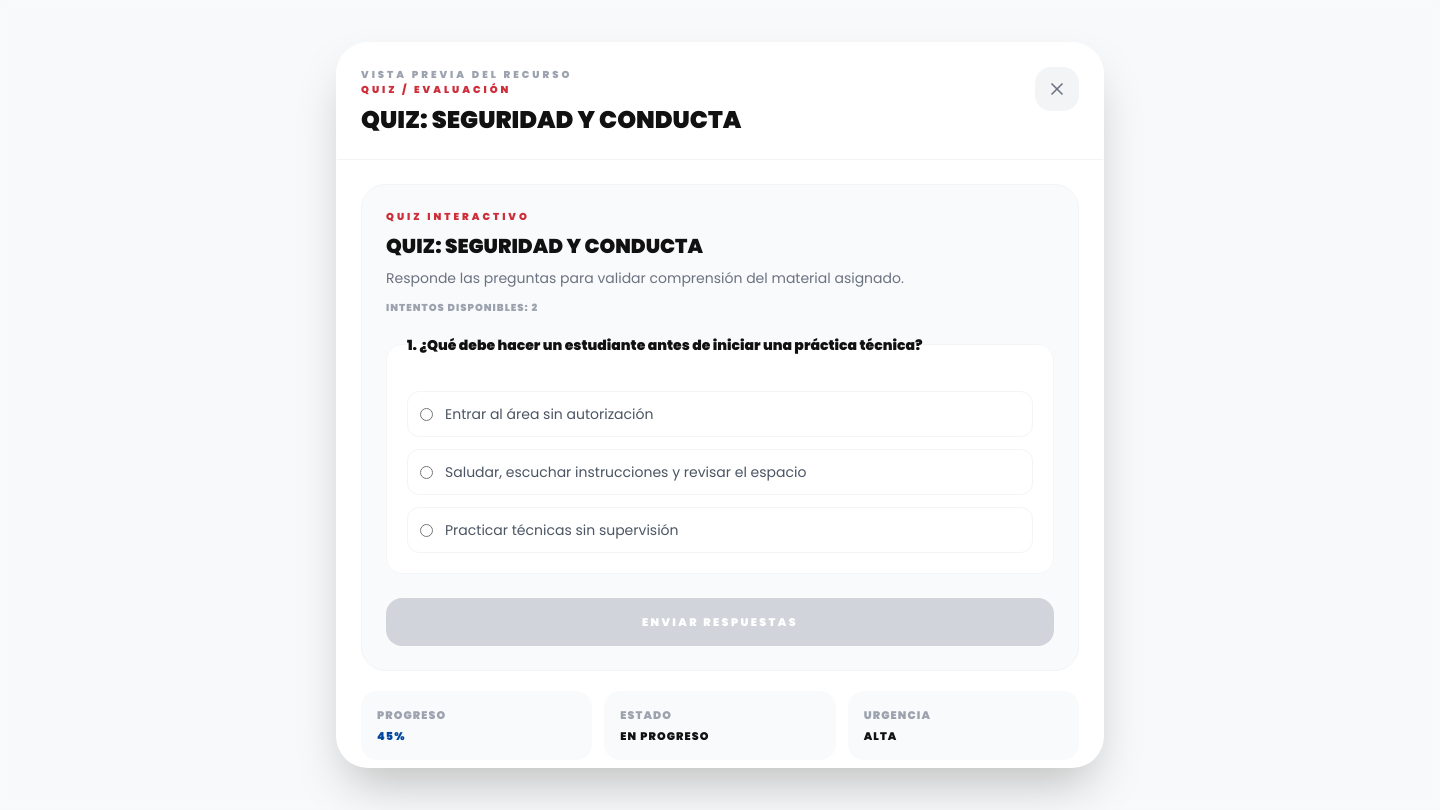
Test: MaterialPreviewModal › actualiza estado local del modal cuando el quiz se aprueba
The image size is (1440, 810).
Click the radio button labelled "Saludar, escuchar instrucciones y revisar el espacio" at (426, 472), box [420,466,433,479]
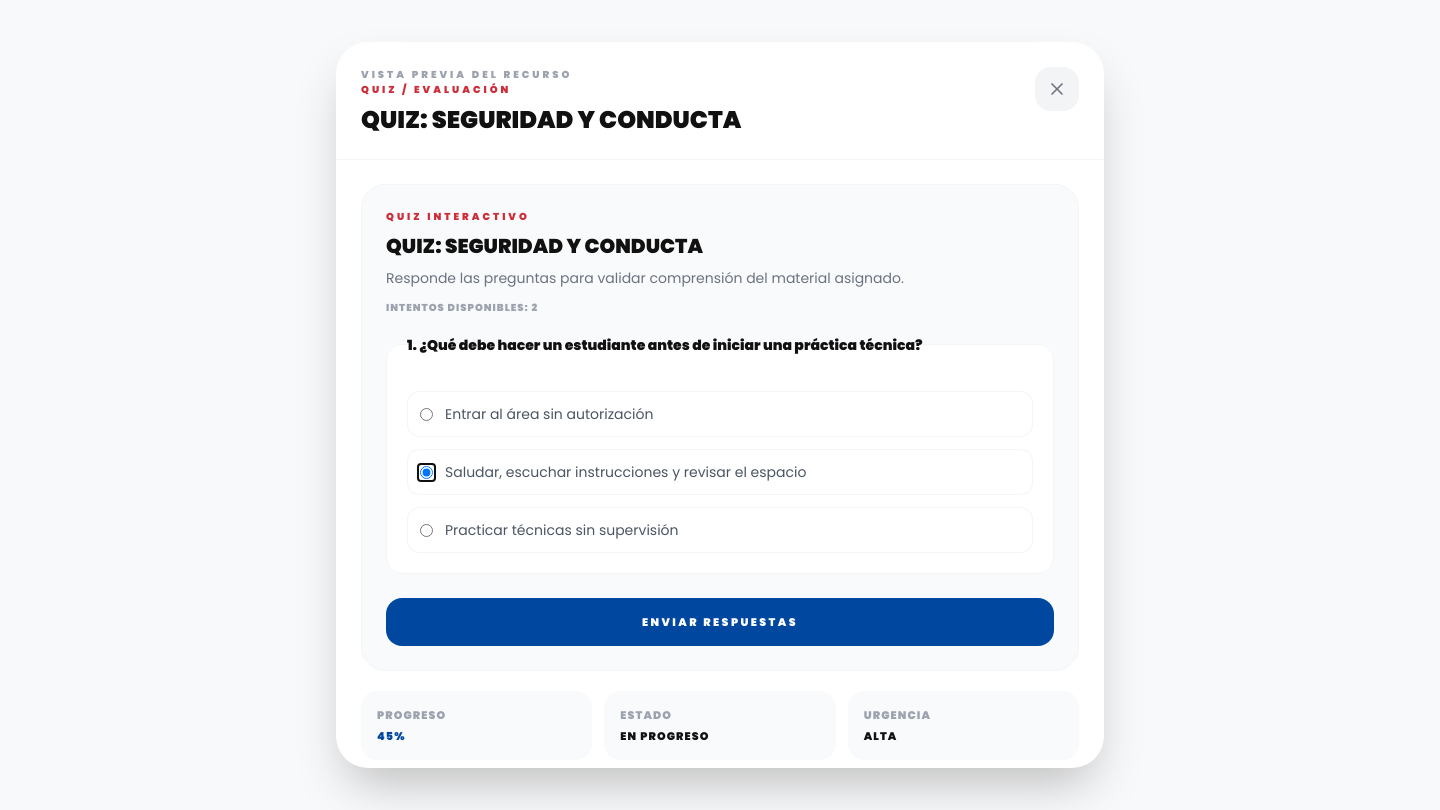
Click the button "Enviar respuestas" at (720, 622), box [386,598,1054,646]
(page scrolled)
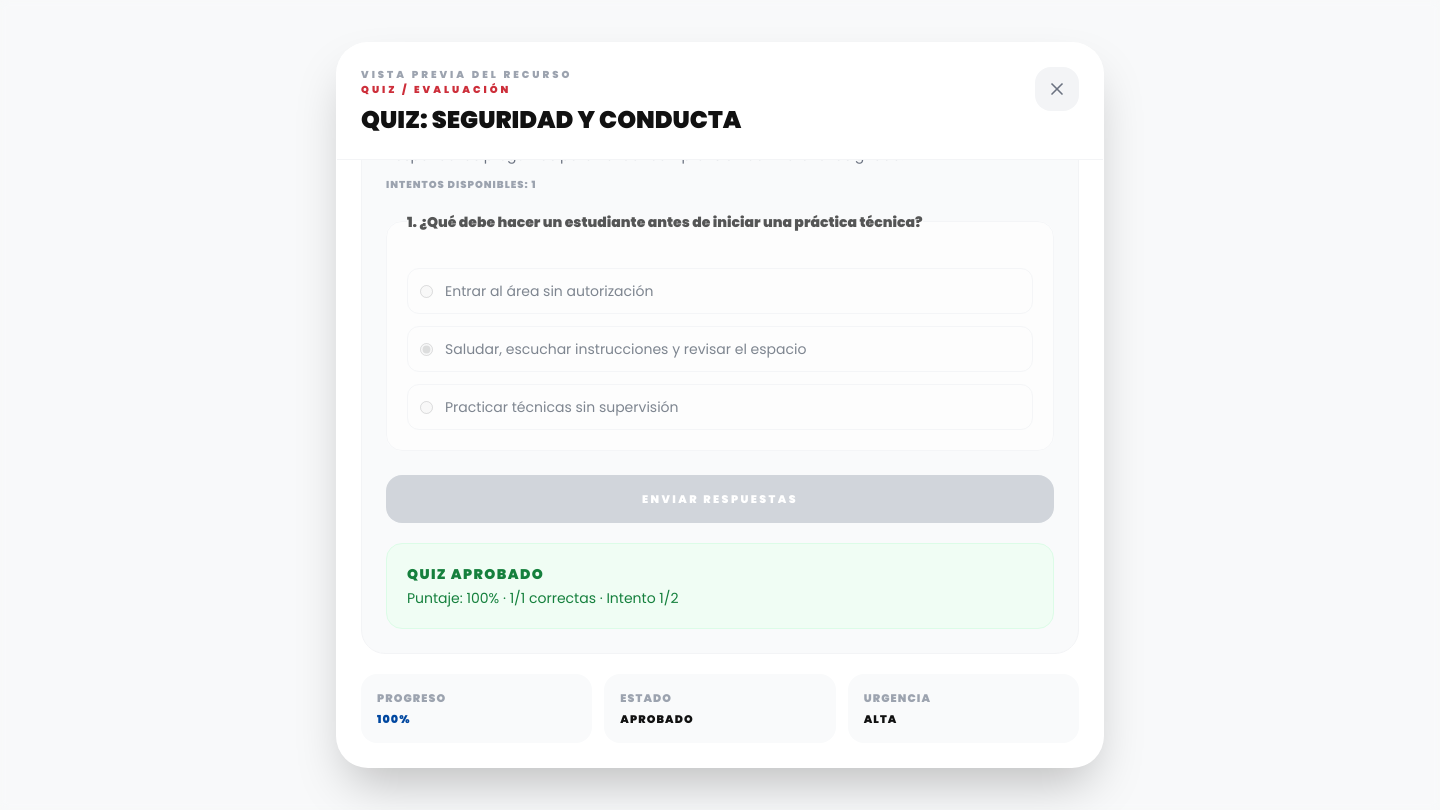
Expected: the text "Quiz aprobado" is shown, [407,564,544,584]
Expected: the text "100%" is shown, [377,711,411,727]
Expected: the text "aprobado" is shown, [620,711,694,727]
